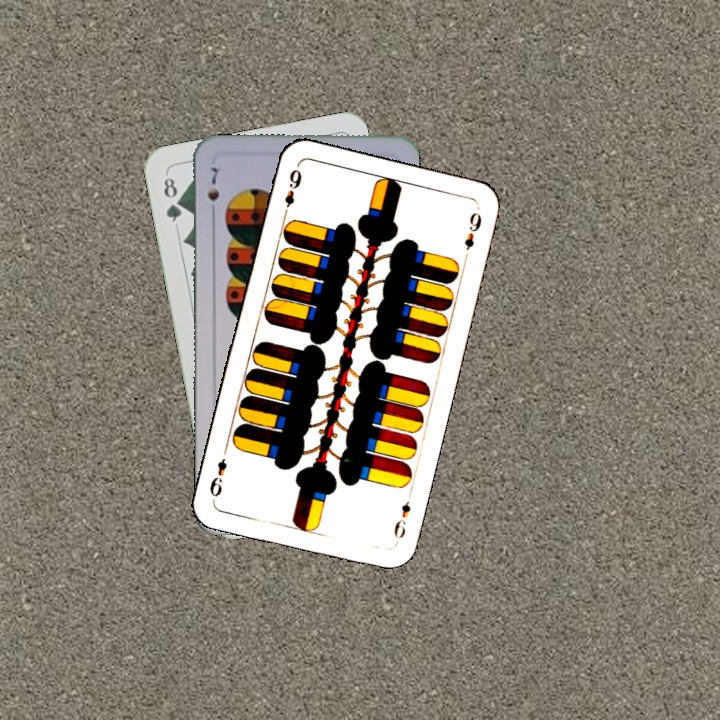E9: (389, 488, 415, 547), (279, 165, 305, 220)
G8: (159, 170, 185, 224)
S7: (203, 163, 222, 219)
